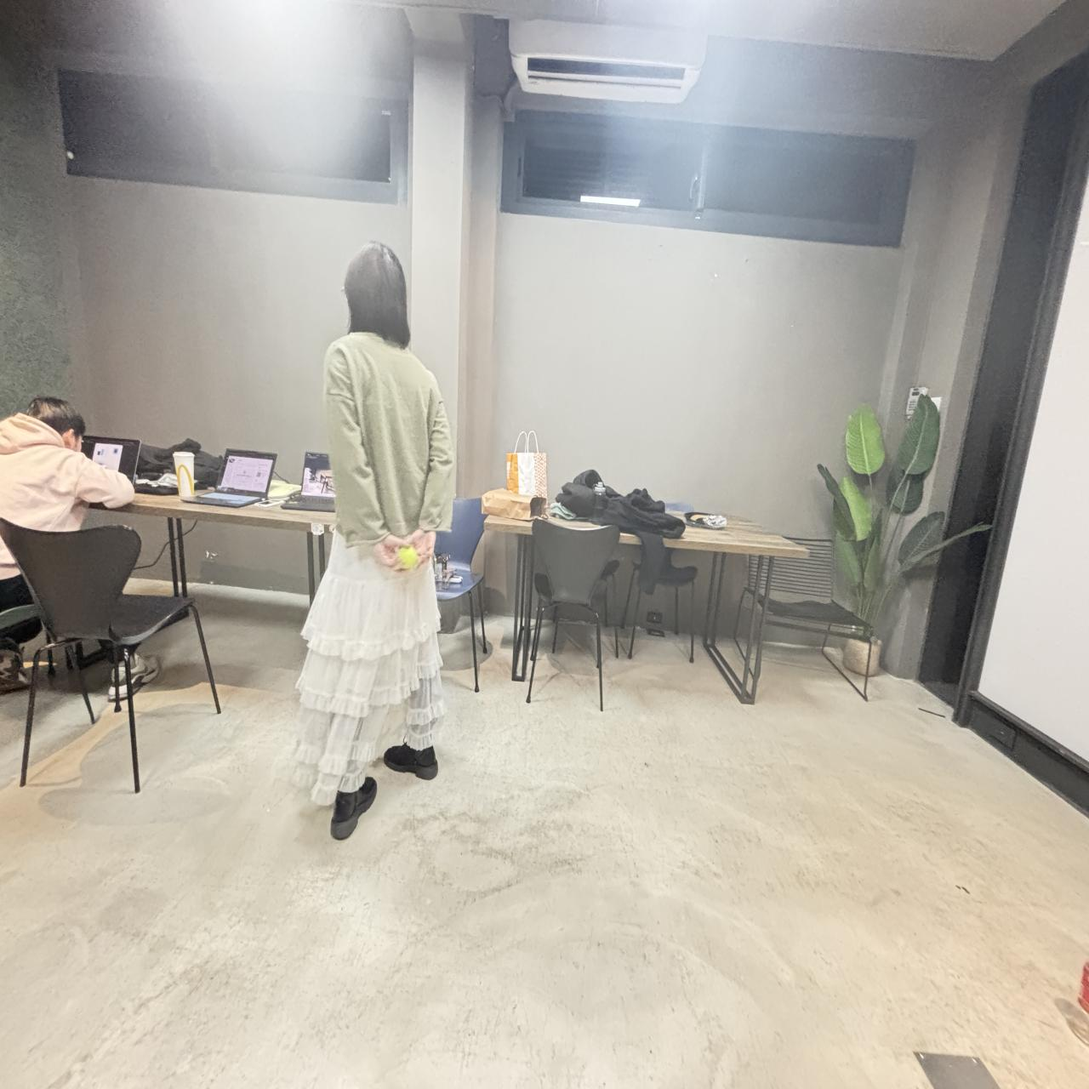person: (296, 243, 453, 839), (0, 398, 162, 705)
tennisball: (398, 546, 418, 570)
